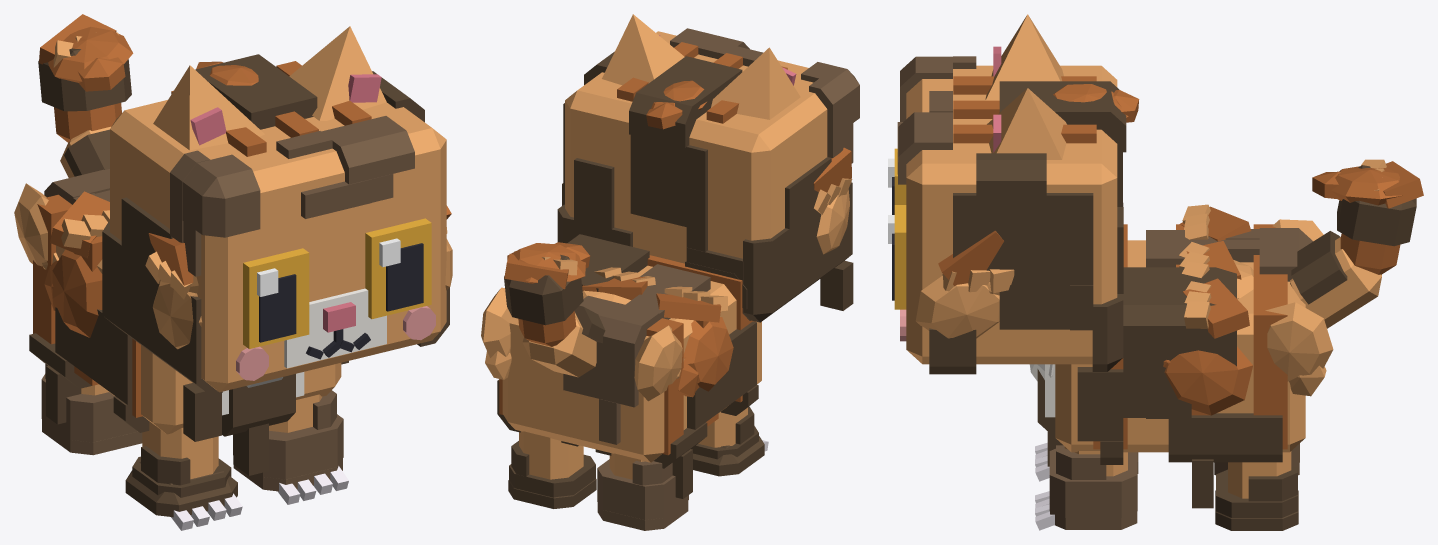
Rendered from CleanACat_Cat_Muffin_Dirty.fbx.
3 views of the same model, side by side, from view 1: azimuth 30°, elevation 25°; view 2: azimuth 150°, elevation 25°; view 3: azimuth 270°, elevation 25° (orthographic). The views are drawn at different scales.
Visible parts, largest first — view 1: CleanACat_Cat_Muffin_Dirty_Head, CleanACat_Cat_Muffin_Dirty_Mud01, CleanACat_Cat_Muffin_Dirty_Body, CleanACat_Cat_Muffin_Dirty_Mud03, CleanACat_Cat_Muffin_Dirty_Mud06, CleanACat_Cat_Muffin_Dirty_Eye2, CleanACat_Cat_Muffin_Dirty_Eye1, CleanACat_Cat_Muffin_Dirty_Mud15, CleanACat_Cat_Muffin_Dirty_Mud16, CleanACat_Cat_Muffin_Dirty_Mud10, CleanACat_Cat_Muffin_Dirty_EarL, CleanACat_Cat_Muffin_Dirty_Mud07 (+19 smaller); view 2: CleanACat_Cat_Muffin_Dirty_Head, CleanACat_Cat_Muffin_Dirty_Body, CleanACat_Cat_Muffin_Dirty_Mud04, CleanACat_Cat_Muffin_Dirty_Mud01, CleanACat_Cat_Muffin_Dirty_Mud09, CleanACat_Cat_Muffin_Dirty_Mud18, CleanACat_Cat_Muffin_Dirty_Mud10, CleanACat_Cat_Muffin_Dirty_Mud05, CleanACat_Cat_Muffin_Dirty_EarR, CleanACat_Cat_Muffin_Dirty_Tail, CleanACat_Cat_Muffin_Dirty_Mud06, CleanACat_Cat_Muffin_Dirty_Mud17 (+22 smaller); view 3: CleanACat_Cat_Muffin_Dirty_Head, CleanACat_Cat_Muffin_Dirty_Mud02, CleanACat_Cat_Muffin_Dirty_Body, CleanACat_Cat_Muffin_Dirty_Mud08, CleanACat_Cat_Muffin_Dirty_Mud11, CleanACat_Cat_Muffin_Dirty_Mud15, CleanACat_Cat_Muffin_Dirty_Fluff09, CleanACat_Cat_Muffin_Dirty_Mud17, CleanACat_Cat_Muffin_Dirty_Fluff05, CleanACat_Cat_Muffin_Dirty_Tail, CleanACat_Cat_Muffin_Dirty_Mud13, CleanACat_Cat_Muffin_Dirty_Mud04 (+21 smaller).
Boxes of the visible parts, x1,y1,x2,y2 form: CleanACat_Cat_Muffin_Dirty_Head: (110,61,446,392); CleanACat_Cat_Muffin_Dirty_Mud01: (102,197,222,441); CleanACat_Cat_Muffin_Dirty_Body: (33,194,341,434); CleanACat_Cat_Muffin_Dirty_Mud03: (276,116,414,218); CleanACat_Cat_Muffin_Dirty_Mud06: (170,150,260,276); CleanACat_Cat_Muffin_Dirty_Eye2: (243,248,309,348); CleanACat_Cat_Muffin_Dirty_Eye1: (365,218,431,319); CleanACat_Cat_Muffin_Dirty_Mud15: (233,390,343,491); CleanACat_Cat_Muffin_Dirty_Mud16: (125,446,237,517); CleanACat_Cat_Muffin_Dirty_Mud10: (55,307,149,432); CleanACat_Cat_Muffin_Dirty_EarL: (289,26,386,120); CleanACat_Cat_Muffin_Dirty_Mud07: (222,374,295,475); CleanACat_Cat_Muffin_Dirty_Head: (565,31,851,263); CleanACat_Cat_Muffin_Dirty_Body: (499,255,761,462); CleanACat_Cat_Muffin_Dirty_Mud04: (629,56,742,251); CleanACat_Cat_Muffin_Dirty_Mud01: (686,157,853,322); CleanACat_Cat_Muffin_Dirty_Mud09: (563,291,659,444); CleanACat_Cat_Muffin_Dirty_Mud18: (597,459,688,530); CleanACat_Cat_Muffin_Dirty_Mud10: (685,261,758,429); CleanACat_Cat_Muffin_Dirty_Mud05: (557,158,632,246); CleanACat_Cat_Muffin_Dirty_EarR: (711,47,800,119); CleanACat_Cat_Muffin_Dirty_Tail: (518,311,596,377); CleanACat_Cat_Muffin_Dirty_Mud06: (801,62,859,163); CleanACat_Cat_Muffin_Dirty_Mud17: (508,441,596,508); CleanACat_Cat_Muffin_Dirty_Head: (900,65,1117,364); CleanACat_Cat_Muffin_Dirty_Mud02: (929,153,1093,374); CleanACat_Cat_Muffin_Dirty_Body: (1045,224,1305,452); CleanACat_Cat_Muffin_Dirty_Mud08: (1123,267,1236,418); CleanACat_Cat_Muffin_Dirty_Mud11: (1168,413,1282,508); CleanACat_Cat_Muffin_Dirty_Mud15: (1049,445,1137,529); CleanACat_Cat_Muffin_Dirty_Fluff09: (1265,302,1333,396); CleanACat_Cat_Muffin_Dirty_Mud17: (1215,467,1298,530); CleanACat_Cat_Muffin_Dirty_Fluff05: (1163,346,1252,415); CleanACat_Cat_Muffin_Dirty_Tail: (1290,233,1400,328); CleanACat_Cat_Muffin_Dirty_Mud13: (1077,367,1123,464); CleanACat_Cat_Muffin_Dirty_Mud04: (999,81,1126,206).
Bounding box in the file's own units: 1.13 × 1.86 × 2.03.
1 material, 1 textured.
